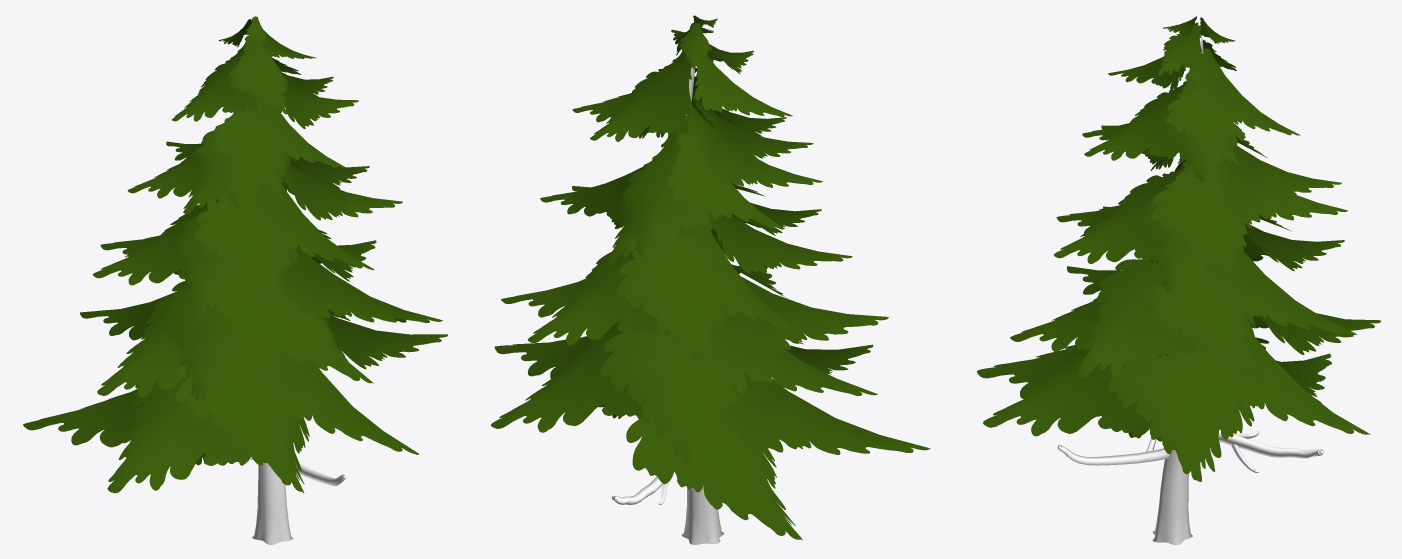
File: pine-2.glb
The picture shows the model from 3 angles, left to right: view 1: azimuth 30°, elevation 25°; view 2: azimuth 150°, elevation 25°; view 3: azimuth 270°, elevation 25°; orthographic projection. The views are drawn at different scales.
Visible parts, largest first — view 1: Pine_2; view 2: Pine_2; view 3: Pine_2.
Boxes of the visible parts, x1,y1,x2,y2 form: Pine_2: (23, 16, 447, 544); Pine_2: (490, 15, 930, 544); Pine_2: (977, 16, 1380, 544).
Size of the model in its own units: 5.73 by 7.14 by 5.22.
Materials: 2 (1 with a texture image).
